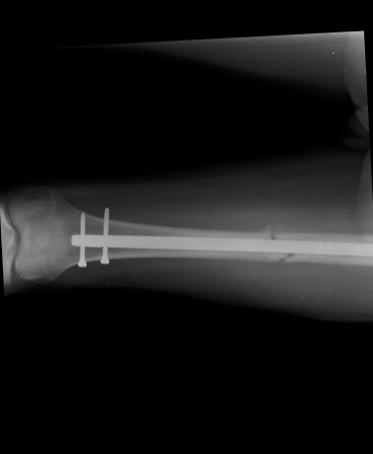fractured: (255, 221, 291, 241), (265, 252, 298, 263)
